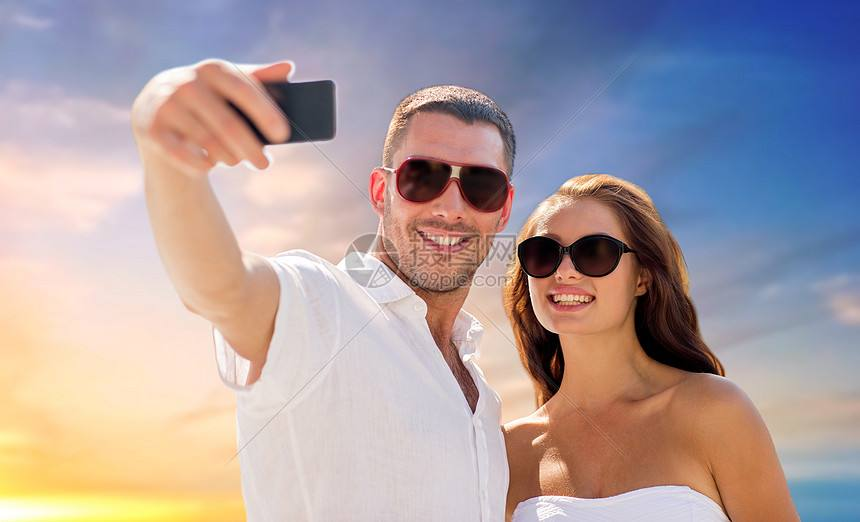taking photos: (130, 54, 341, 181)
